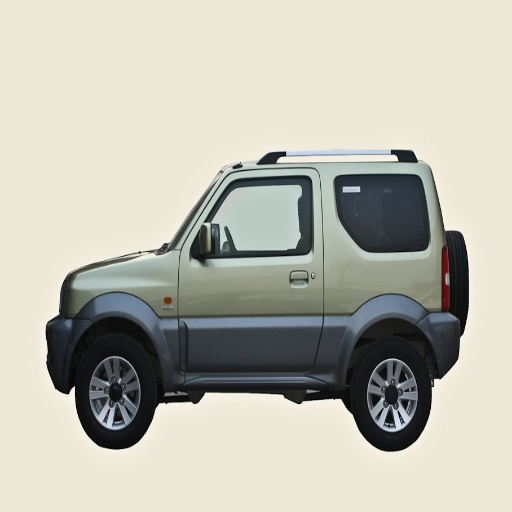back_glass: (348, 177, 425, 243)
back_left_door: (268, 172, 322, 316)
trunk: (310, 254, 441, 369)
